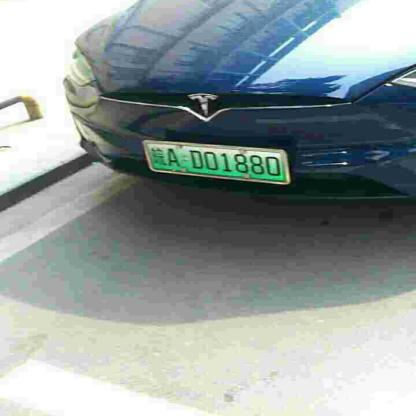lp: (144, 143, 286, 182)
